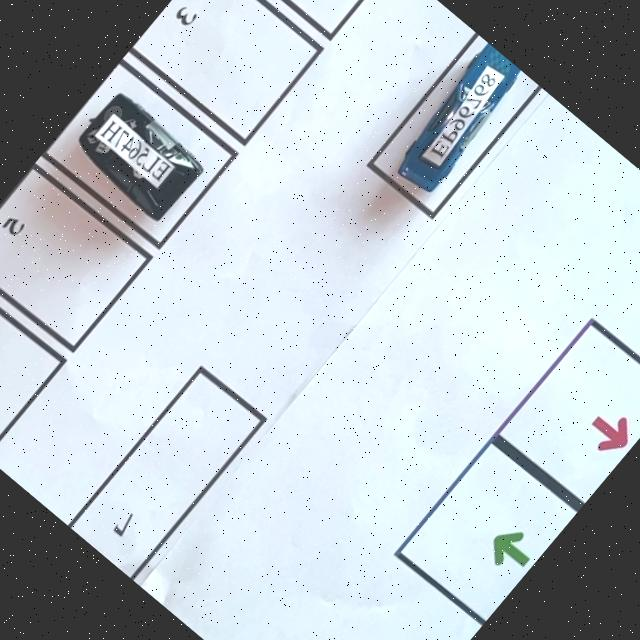car: (397, 42, 520, 192), (78, 95, 202, 219)
